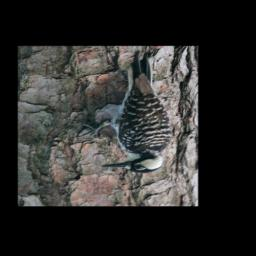Woodpecker: (73, 51, 177, 174)
